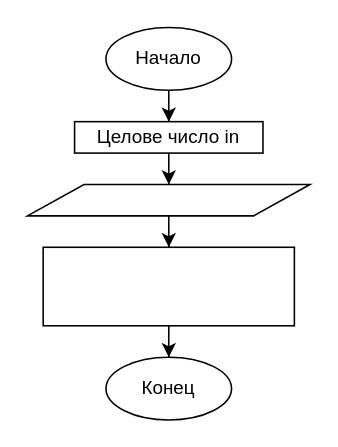
The diagram is 338 pixels wide and 447 high, and some of its shapes have lost their labels. The centre of each missing label's shape, as x and y in pixels:
"in = in < size ? in : size - 1 x[in] = 0 i[in] = 0" goes at (168,286).
"Получение числа in" goes at (168,199).
